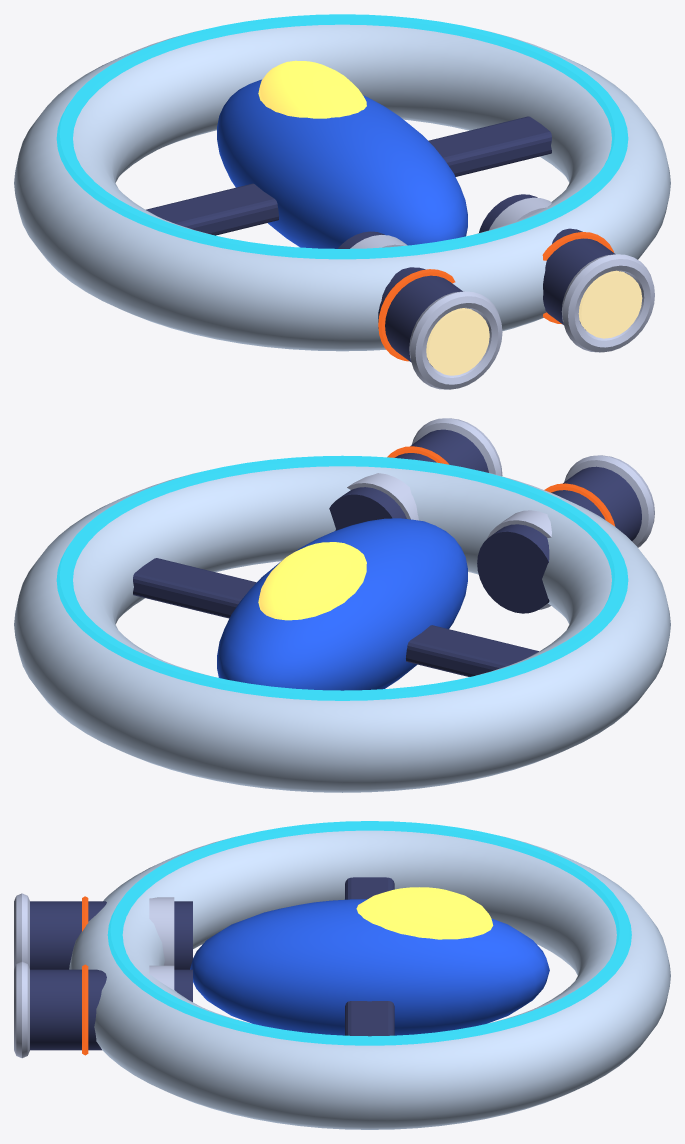
Rendered from halo.glb.
3 views of the same model, one above another, from view 1: azimuth 30°, elevation 25°; view 2: azimuth 150°, elevation 25°; view 3: azimuth 270°, elevation 25° (orthographic). The views are drawn at different scales.
Visible parts, largest first — view 1: Torus.022, Sphere, Torus.023, strut, Sphere.001, Torus.024, Torus.026, Cylinder, Cylinder.005, Cylinder.002, Cylinder.003, Torus.025 (+2 smaller); view 2: Torus.022, Sphere, Torus.023, strut, Cylinder, Sphere.001, Cylinder.003, Torus.024, Torus.026, Cylinder.004, Cylinder.001, Torus.025; view 3: Torus.022, Sphere, Torus.023, Cylinder.003, Sphere.001, Cylinder, strut, Torus.026, Cylinder.001, Torus.024, Torus.027, Cylinder.004.
Boxes of the visible parts, x1,y1,x2,y2 form: Torus.022: (14, 24, 670, 351); Sphere: (217, 79, 467, 248); Torus.023: (56, 14, 628, 259); strut: (146, 116, 551, 235); Sphere.001: (258, 60, 366, 118); Torus.024: (409, 291, 502, 389); Torus.026: (561, 254, 654, 352); Cylinder: (338, 231, 473, 366); Cylinder.005: (578, 270, 642, 338); Cylinder.002: (426, 308, 489, 375); Cylinder.003: (479, 194, 625, 329); Torus.025: (378, 269, 455, 361); Torus.022: (14, 466, 670, 792); Sphere: (217, 518, 467, 690); Torus.023: (56, 455, 628, 700); strut: (133, 558, 538, 676); Cylinder: (477, 466, 641, 613); Sphere.001: (258, 542, 366, 620); Cylinder.003: (329, 429, 488, 530); Torus.024: (564, 455, 654, 547); Torus.026: (411, 418, 502, 476); Cylinder.004: (347, 473, 418, 520); Cylinder.001: (487, 510, 551, 609); Torus.025: (544, 483, 615, 526); Torus.022: (69, 830, 670, 1129); Sphere: (190, 899, 549, 1035); Torus.023: (107, 821, 631, 1045); Cylinder.003: (30, 969, 192, 1050); Sphere.001: (356, 887, 493, 939); Cylinder: (30, 901, 192, 969); strut: (345, 877, 394, 1036); Torus.026: (14, 961, 29, 1058); Cylinder.001: (149, 897, 174, 965); Torus.024: (14, 893, 29, 968); Torus.027: (82, 964, 88, 1055); Cylinder.004: (149, 965, 174, 990).
Bounding box in the file's own units: 1.94 × 0.5 × 2.12.
